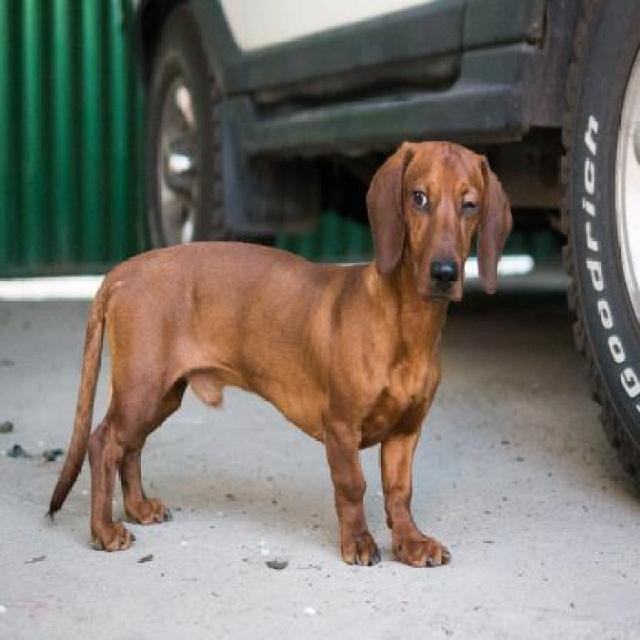Dog: (41, 134, 514, 568)
